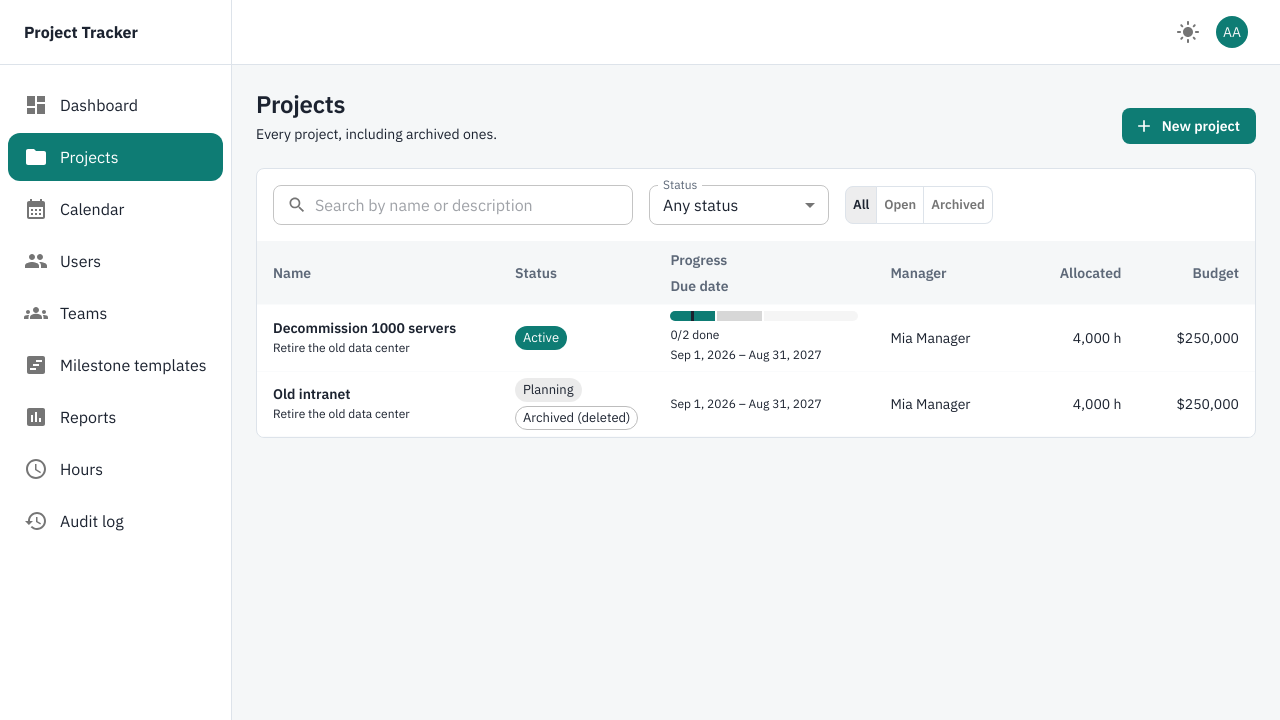
it: project form › a new project starts today, even when the app was opened on an earlier day
Click the button "New project" at (1189, 126), box x1=1122 y1=108 x2=1256 y2=144
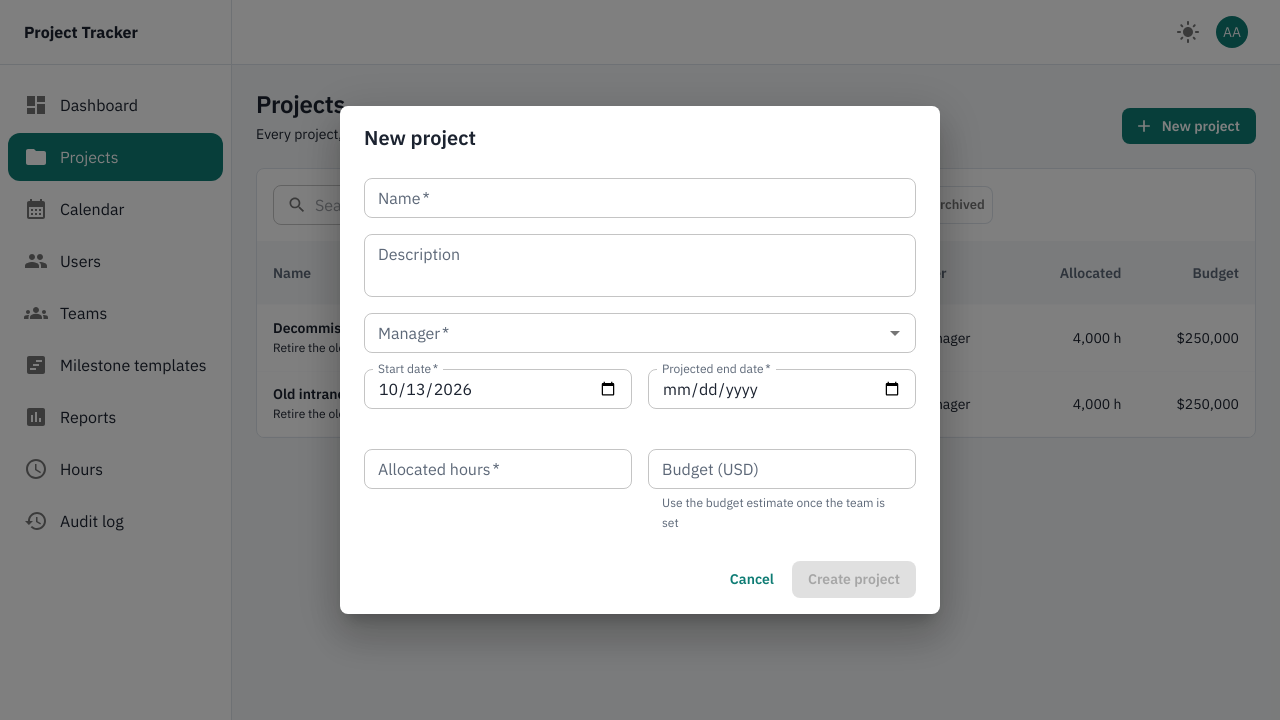
Result: the date field labelled "Start date *" holds "2026-10-13" at x1=364 y1=369 x2=632 y2=409
Click the button "Cancel" at (752, 579), box x1=720 y1=561 x2=784 y2=598
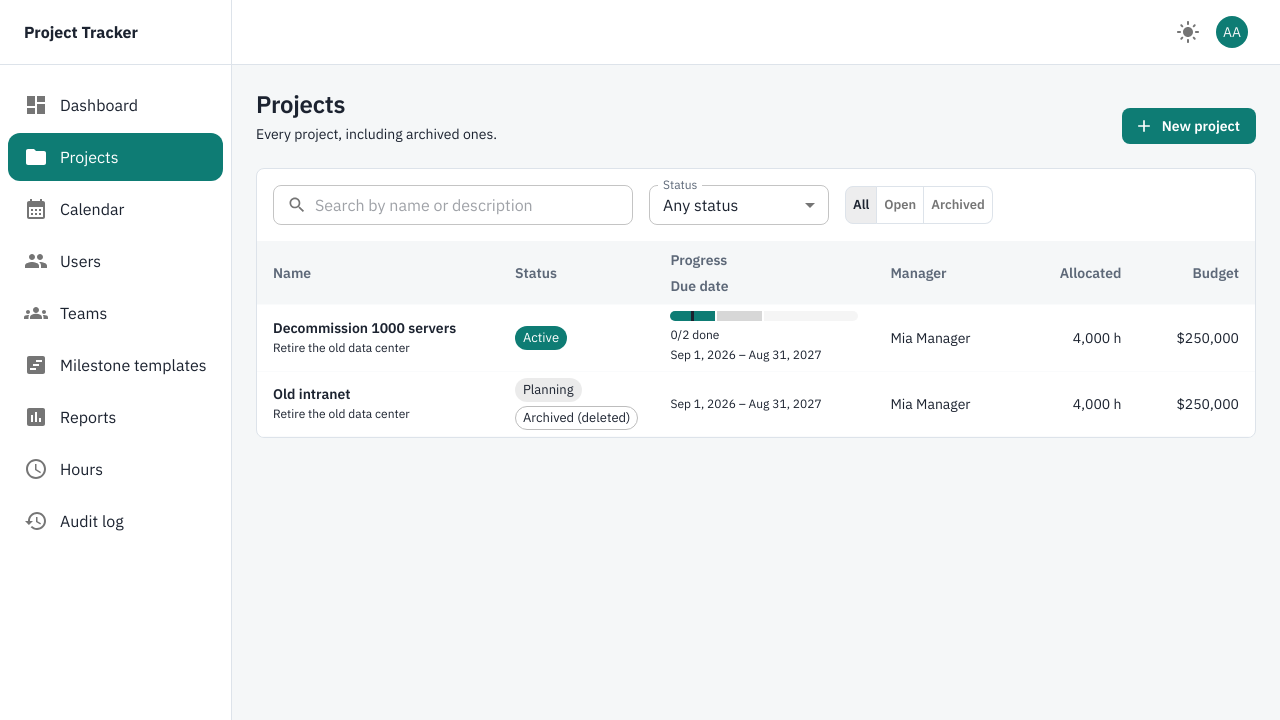
Result: the dialog is gone
Click the button "New project" at (1189, 126), box x1=1122 y1=108 x2=1256 y2=144
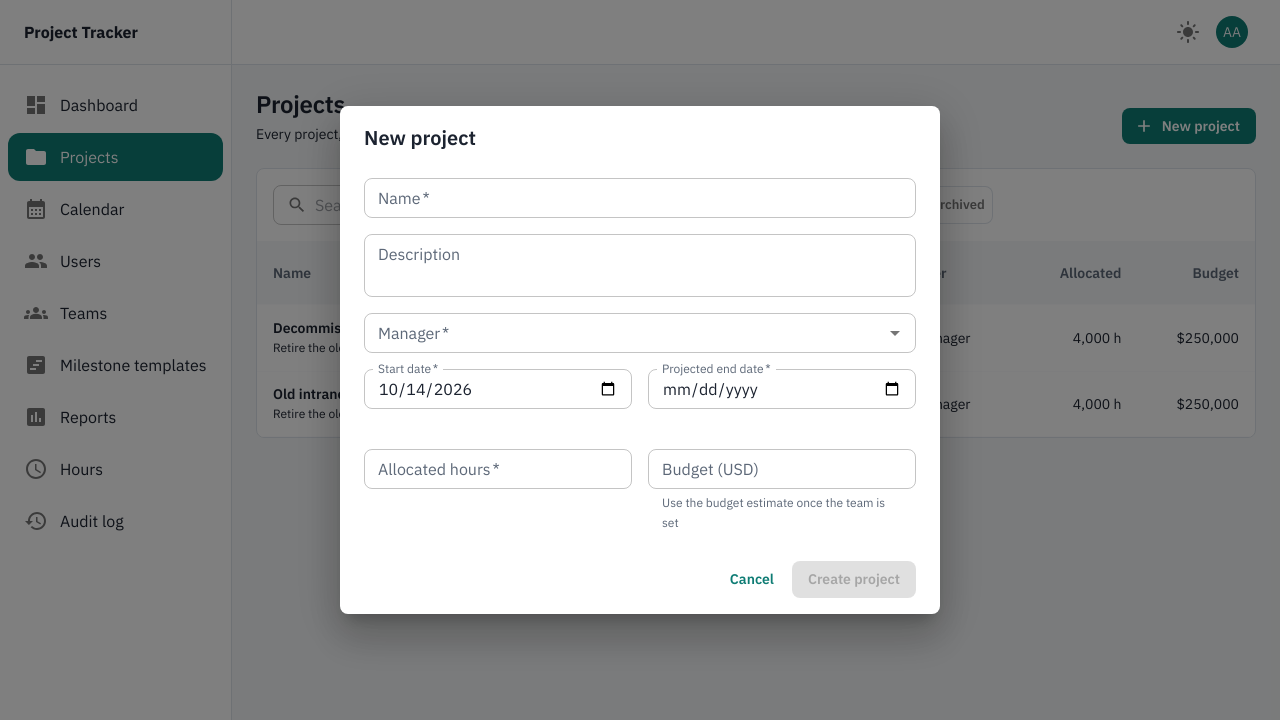
Result: the date field labelled "Start date *" holds "2026-10-14" at x1=364 y1=369 x2=632 y2=409
